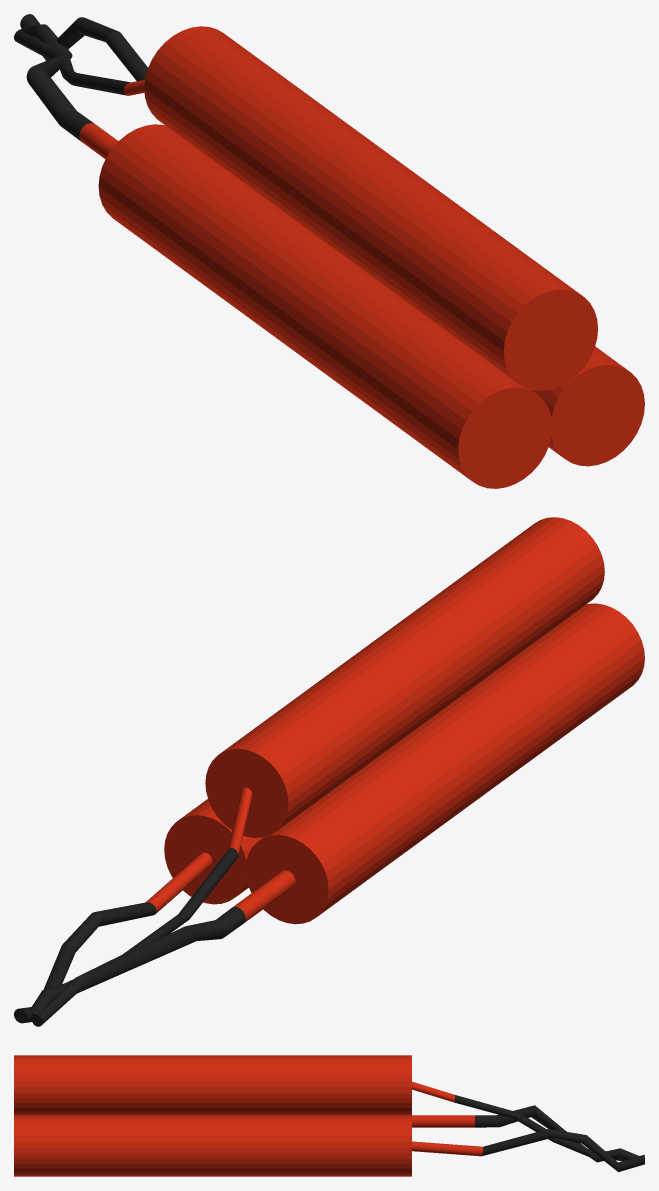
Rendered from Dinamit1.fbx.
3 views of the same model, one above another, from view 1: azimuth 30°, elevation 25°; view 2: azimuth 150°, elevation 25°; view 3: azimuth 270°, elevation 25° (orthographic). The views are drawn at different scales.
Visible parts, largest first — view 1: Cylinder.003, Cylinder.001, Cylinder; view 2: Cylinder.003, Cylinder.001, Cylinder; view 3: Cylinder, Cylinder.001, Cylinder.003.
Part boxes in pixels (x1,y1,x2,y2): Cylinder.003: [21, 24, 552, 488]; Cylinder.001: [14, 26, 597, 390]; Cylinder: [20, 14, 644, 466]; Cylinder.003: [30, 603, 644, 1015]; Cylinder.001: [32, 517, 604, 1026]; Cylinder: [14, 799, 263, 1023]; Cylinder: [14, 1116, 644, 1176]; Cylinder.001: [14, 1055, 624, 1161]; Cylinder.003: [14, 1105, 638, 1162].
Bounding box in the file's own units: 8.77 × 8.32 × 46.32.
1 material, 1 textured.
